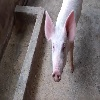heo: (43, 8, 77, 84)
